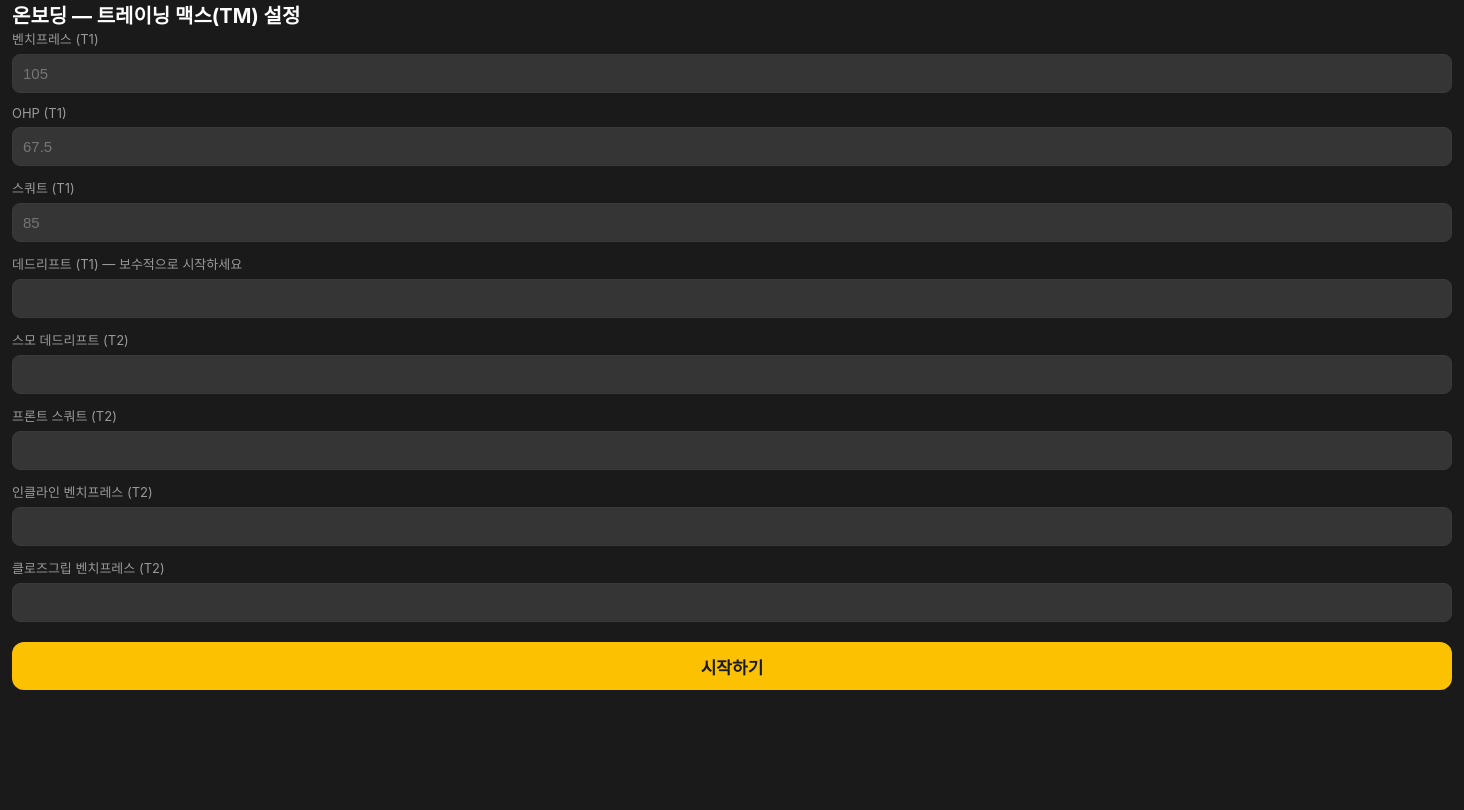
Test: OnboardingScreen › ① 폼 검증: 빈 값 제출 방지 (DB에 아무것도 안 쓰임, 에러 메시지 표시)
The image size is (1464, 810).
Click the button "시작하기" at {"x": 732, "y": 666}, box [12,642,1452,690]
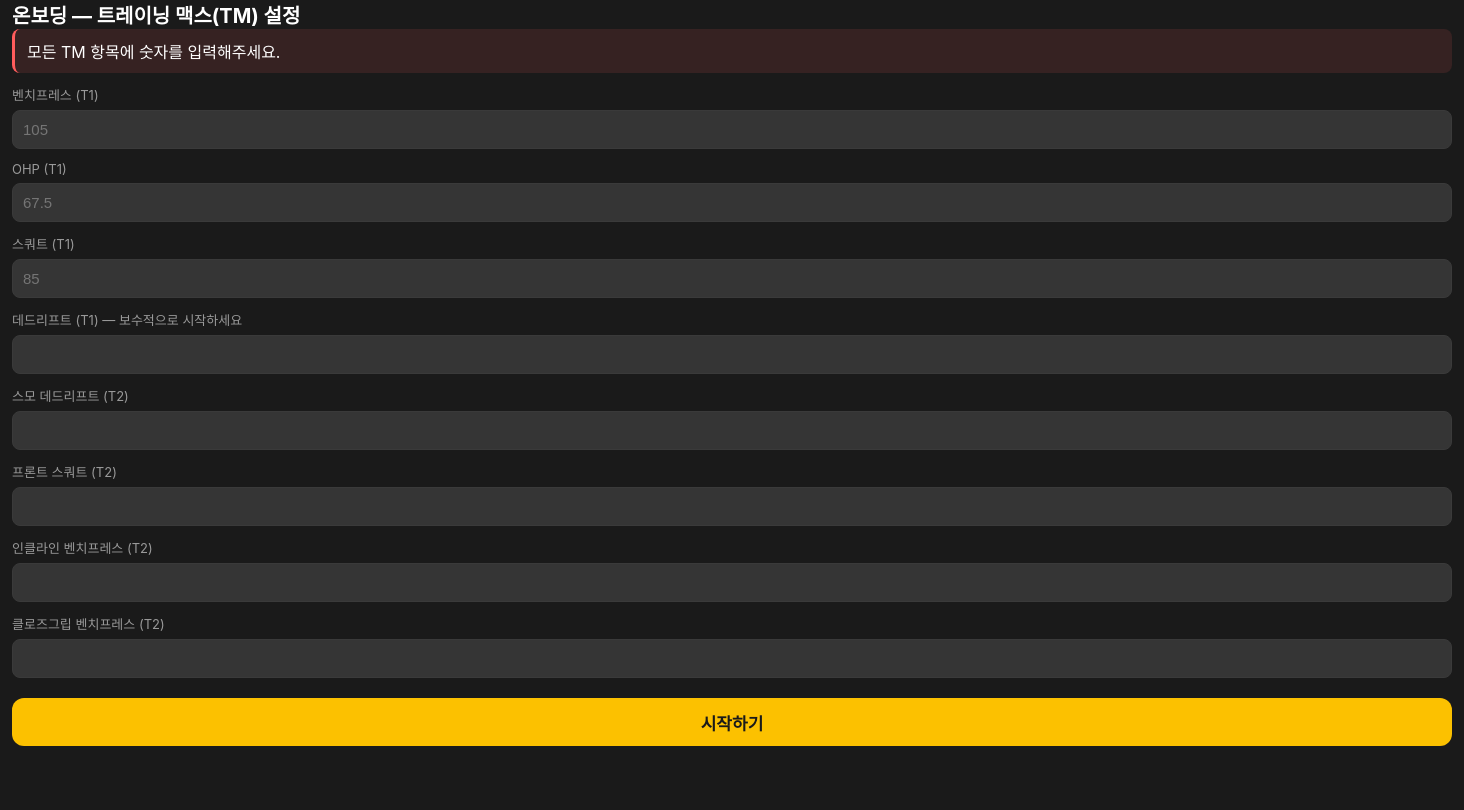
Expected: the message "모든 TM 항목에 숫자를 입력해주세요." is shown, [12,29,1452,73]
